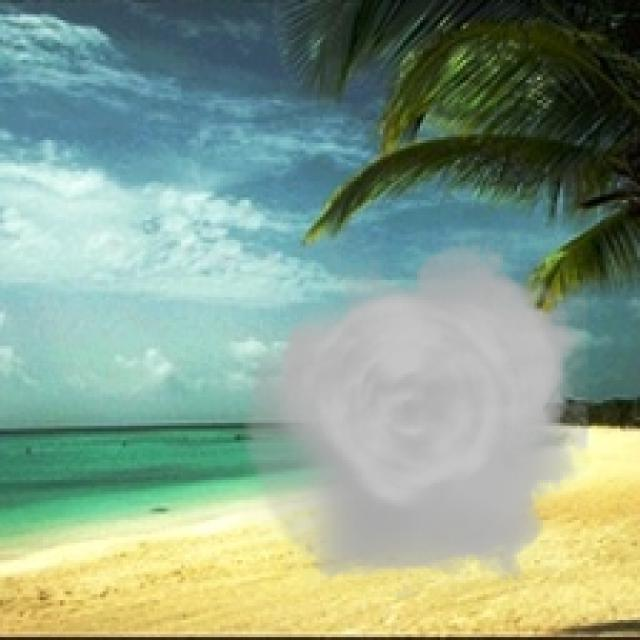smoke: (243, 232, 588, 597)
